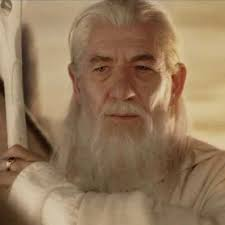gandalf gray: (15, 7, 212, 214)
